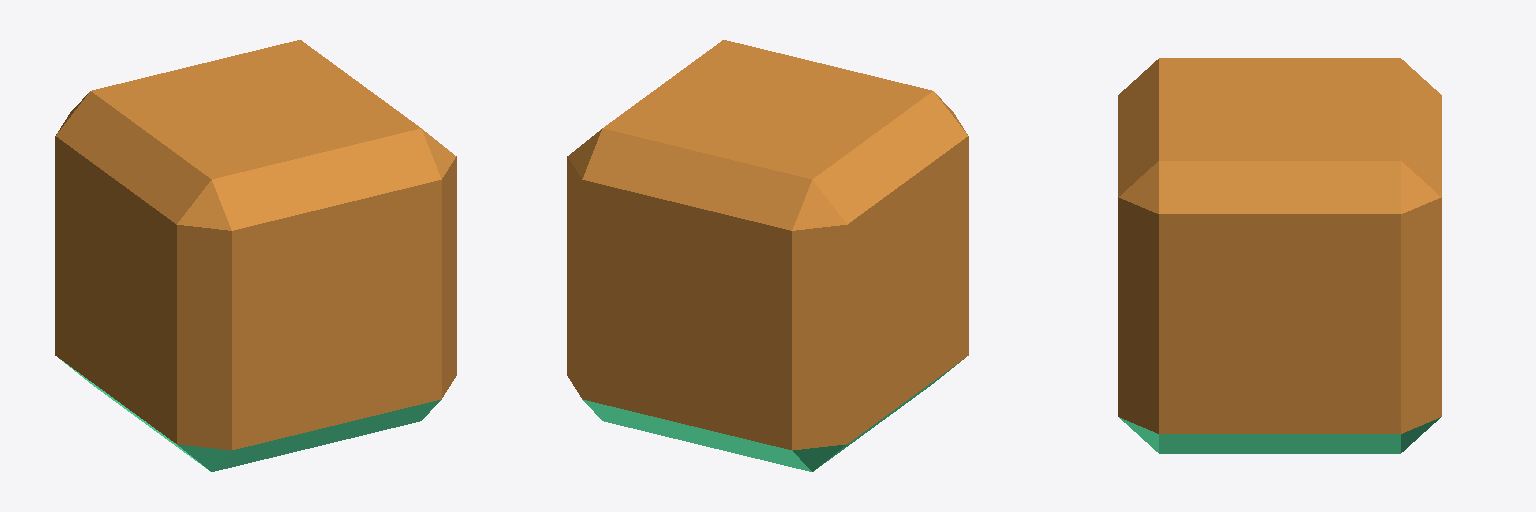
The picture shows the model from 3 angles: view 1: azimuth 30°, elevation 25°; view 2: azimuth 150°, elevation 25°; view 3: azimuth 270°, elevation 25°; orthographic projection.
Visible parts, largest first — view 1: Cube; view 2: Cube; view 3: Cube.
Boxes of the visible parts, x1,y1,x2,y2 form: Cube: [55, 40, 456, 471]; Cube: [567, 40, 968, 471]; Cube: [1118, 58, 1441, 453].
Size of the model in its own units: 2 by 2 by 2.
1 materials, 1 textured.